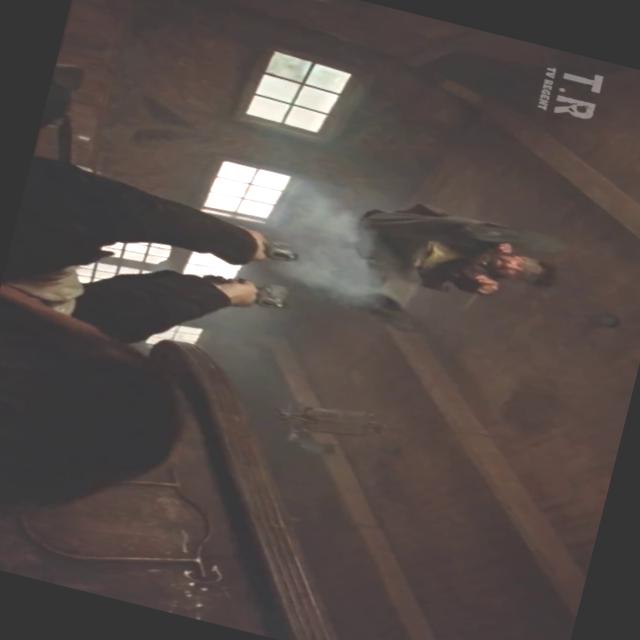handgun: (186, 258, 320, 338), (205, 211, 312, 281)
